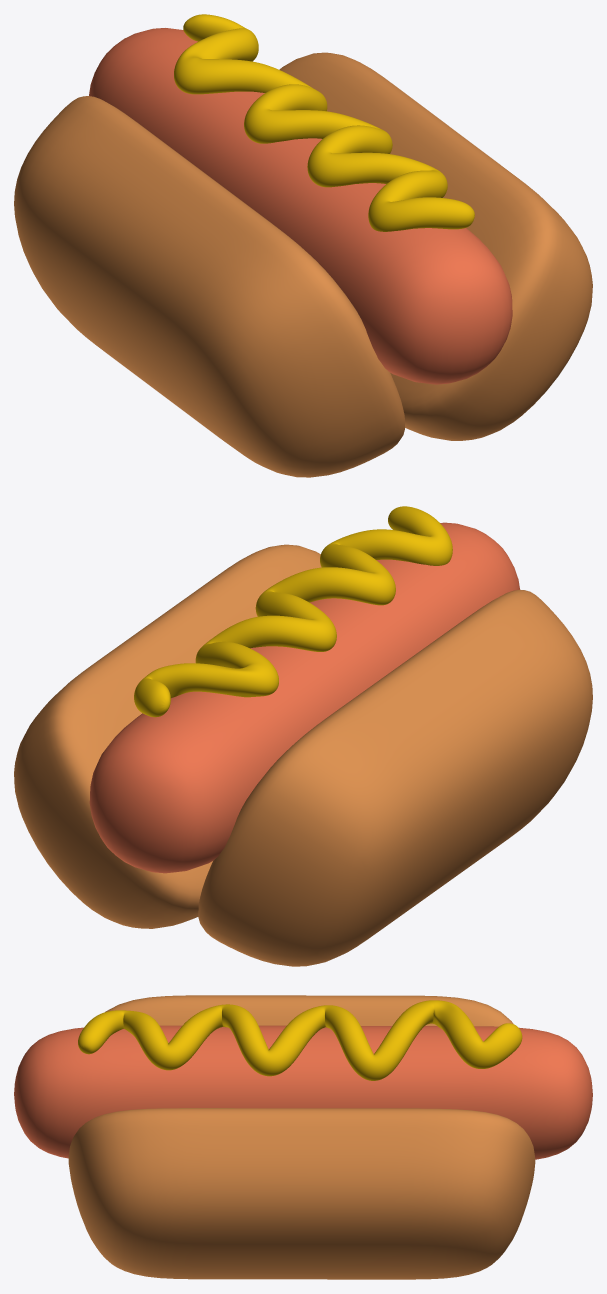
File: Perrito caliente.fbx
The picture shows the model from 3 angles, top to bottom: view 1: azimuth 30°, elevation 25°; view 2: azimuth 150°, elevation 25°; view 3: azimuth 270°, elevation 25°; orthographic projection. The views are drawn at different scales.
Parts seen in each view (by area): view 1: Pan 2, Salchicha, Pan 1, Mostaza; view 2: Pan 2, Salchicha, Pan 1, Mostaza; view 3: Pan 1, Salchicha, Mostaza, Pan 2.
Boxes of the visible parts, box(x1,y1,x2,y2) form: Pan 2: box(14, 96, 404, 477); Salchicha: box(89, 28, 512, 384); Pan 1: box(279, 52, 592, 440); Mostaza: box(174, 14, 474, 231); Pan 2: box(198, 589, 592, 966); Salchicha: box(89, 522, 519, 873); Pan 1: box(14, 544, 321, 928); Mostaza: box(134, 506, 452, 717); Pan 1: box(68, 1108, 535, 1279); Salchicha: box(14, 1025, 592, 1159); Mostaza: box(78, 1000, 522, 1080); Pan 2: box(105, 995, 513, 1026).
Bounding box in the file's own units: 63.45 × 44.33 × 98.75.
